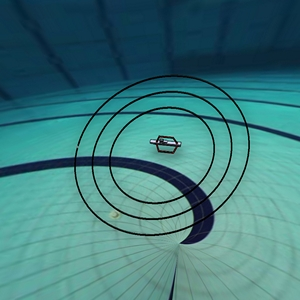circle: (59, 56, 266, 245)
submarine: (138, 123, 192, 166)
